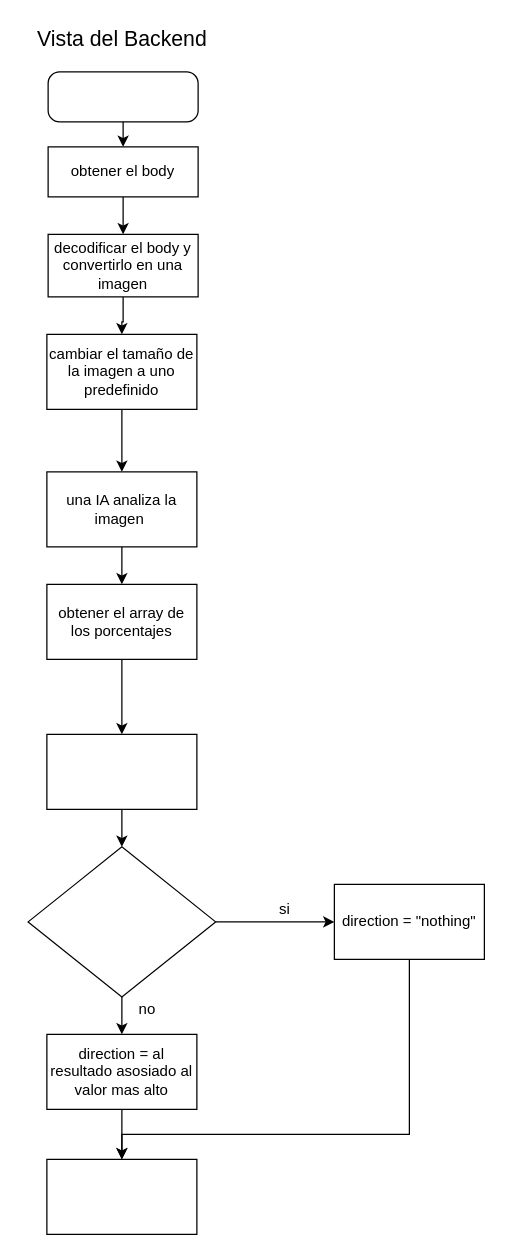
Image size: 506x1256. Some labels were removed from this diagram. Each missing label, with the box of its shape:
manda un response con la viable "direction": (46, 1158, 197, 1234)
obtener la media y sumarle 0.1: (46, 733, 197, 809)
request: (47, 71, 198, 122)
todos los valores son menor a la media: (27, 846, 216, 997)
